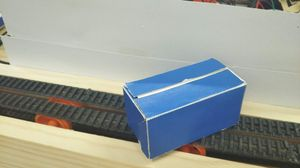box3: (120, 57, 246, 159)
